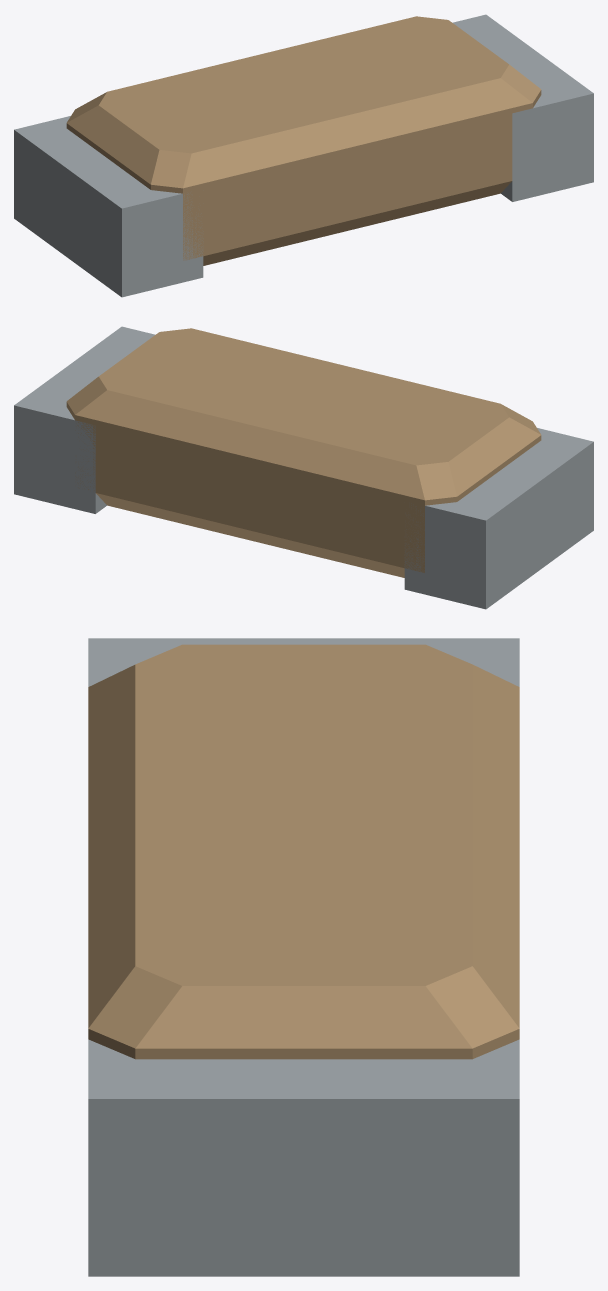
Rendered from L128_SMD_0476.fbx.
3 renders of one model, top to bottom at view 1: azimuth 30°, elevation 25°; view 2: azimuth 150°, elevation 25°; view 3: azimuth 270°, elevation 25°, orthographic. The views are drawn at different scales.
Parts seen in each view (by area): view 1: SMD_0476__Ceramic, SMD_0476__Solder; view 2: SMD_0476__Ceramic, SMD_0476__Solder; view 3: SMD_0476__Ceramic, SMD_0476__Solder.
Part boxes in pixels (left/top/right/bottom): SMD_0476__Ceramic: left=66, top=16, right=541, bottom=265; SMD_0476__Solder: left=14, top=14, right=593, bottom=297; SMD_0476__Ceramic: left=66, top=328, right=541, bottom=577; SMD_0476__Solder: left=14, top=326, right=593, bottom=609; SMD_0476__Ceramic: left=88, top=644, right=519, bottom=1059; SMD_0476__Solder: left=88, top=638, right=519, bottom=1276.
Bounding box in the file's own units: 2.78 × 0.65 × 1.1.
